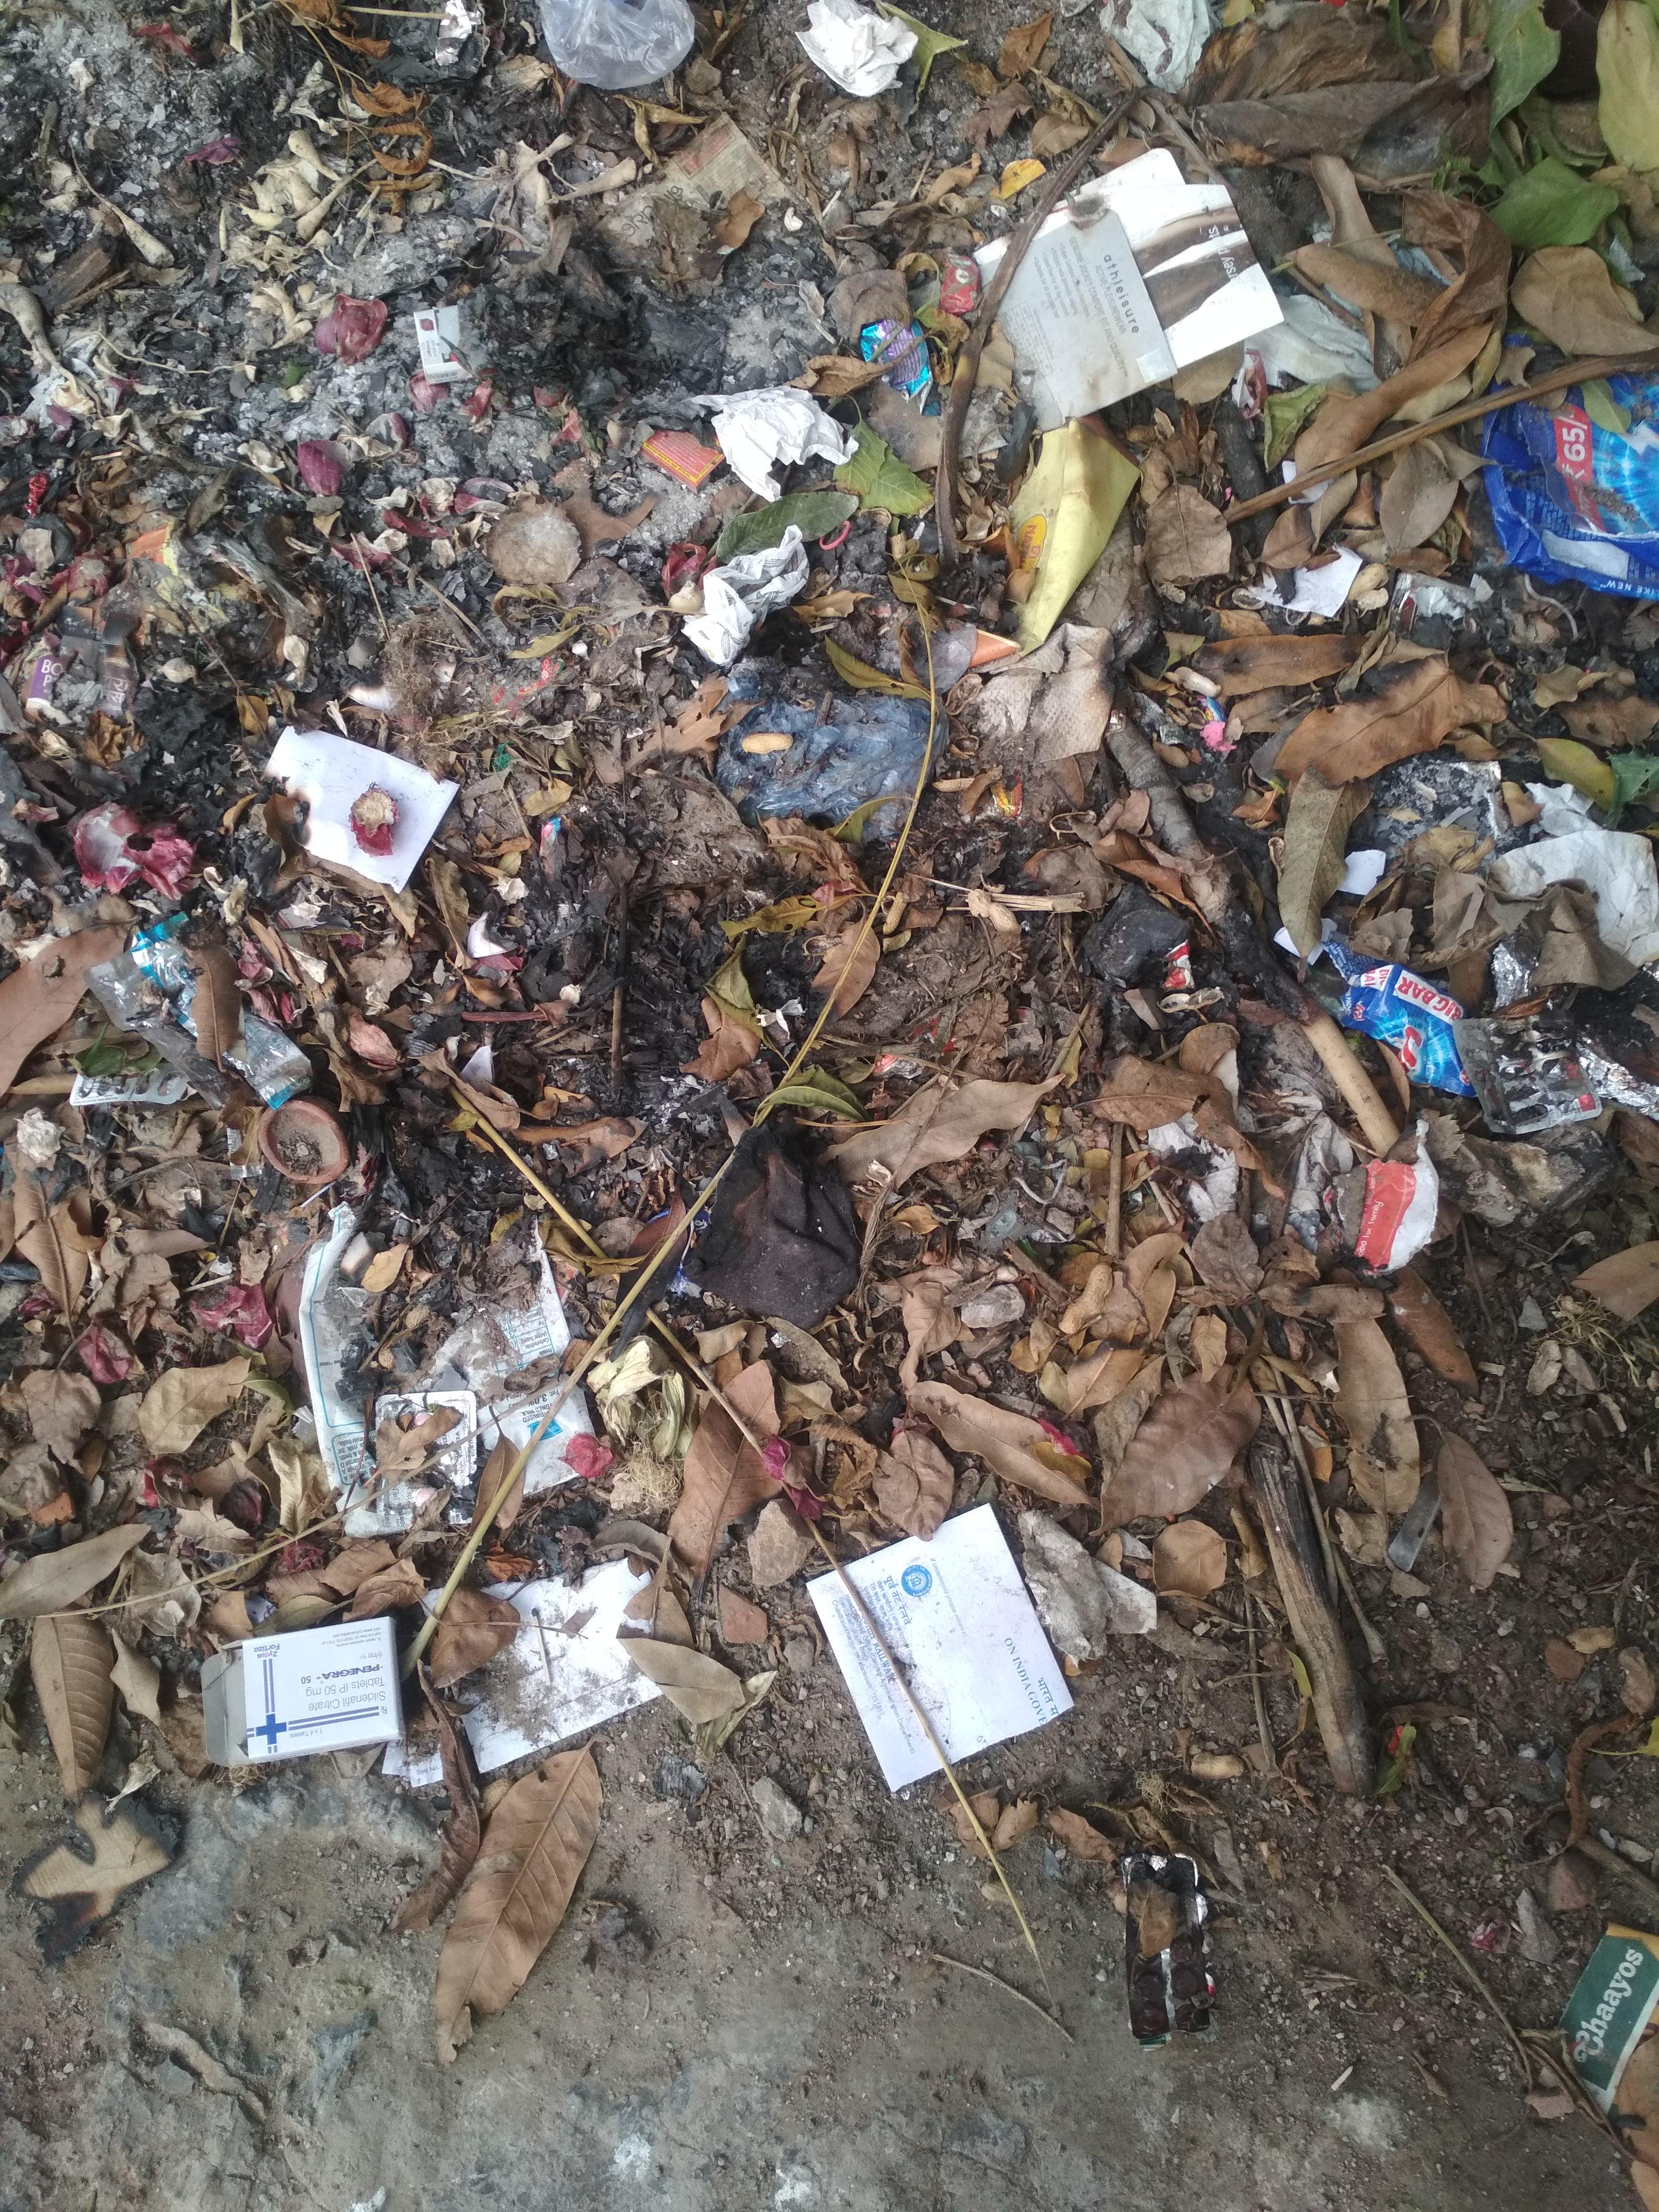organic: (12, 0, 1654, 2054)
